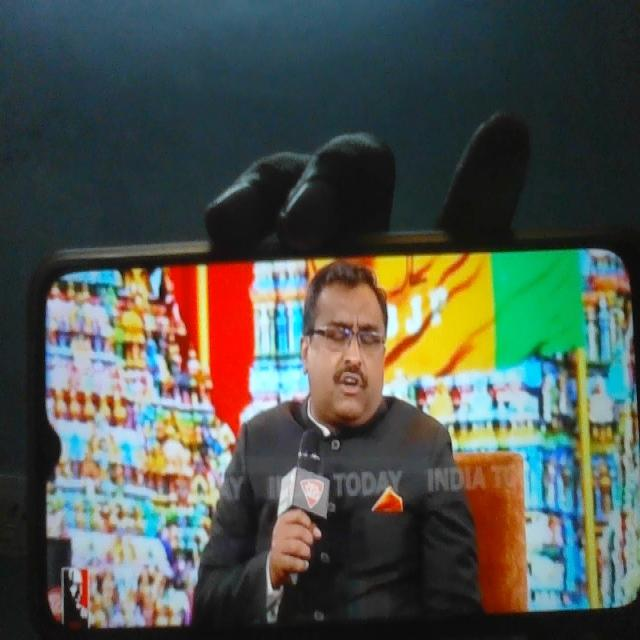fake: (290, 227, 398, 430)
